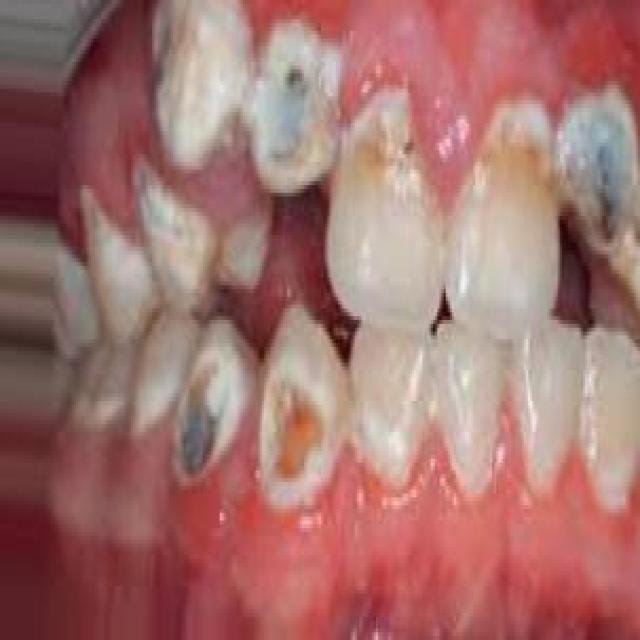caries: (344, 90, 439, 230), (254, 350, 336, 504), (563, 102, 640, 252), (474, 92, 559, 215), (168, 371, 238, 480)
